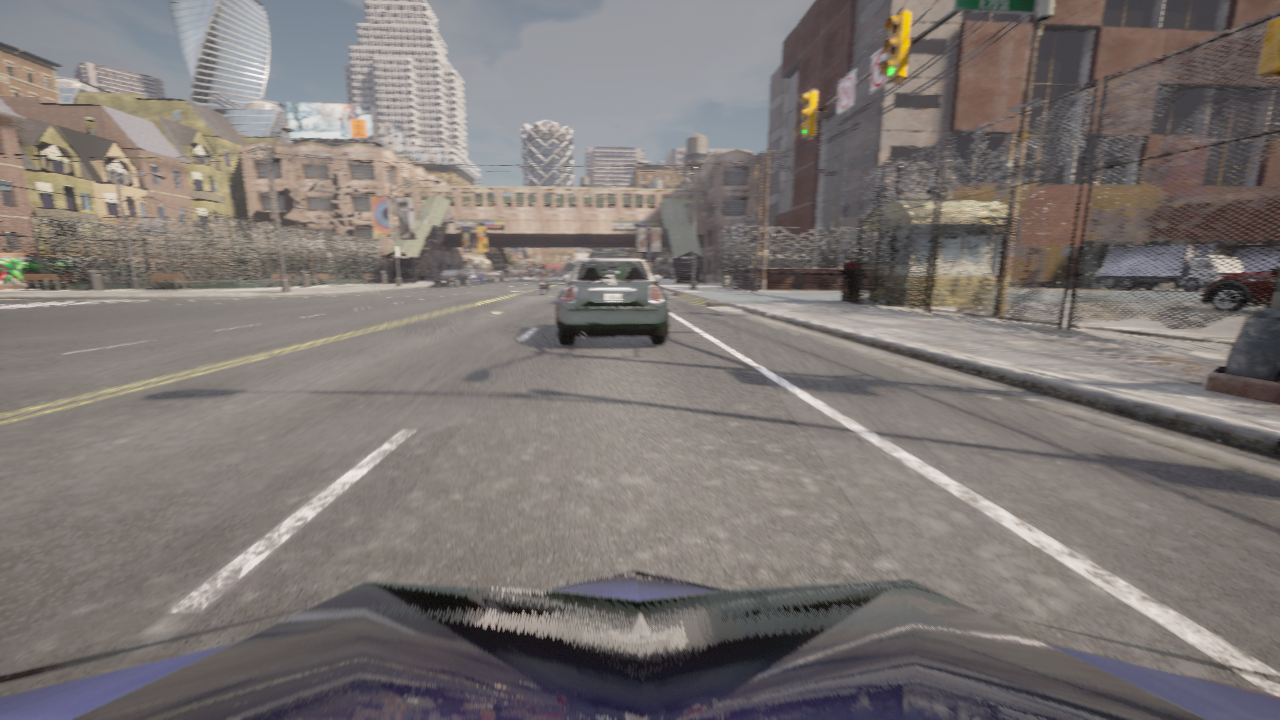cyclist: (0, 569, 1279, 719), (556, 258, 668, 345), (1096, 243, 1243, 291), (1201, 267, 1278, 310), (1235, 246, 1279, 271), (434, 269, 469, 287), (462, 268, 485, 285), (564, 260, 578, 283), (484, 270, 507, 282), (588, 251, 631, 257), (538, 274, 549, 295), (514, 272, 524, 276), (517, 272, 521, 278), (527, 273, 534, 276)
pedestrian: (743, 258, 753, 293)
